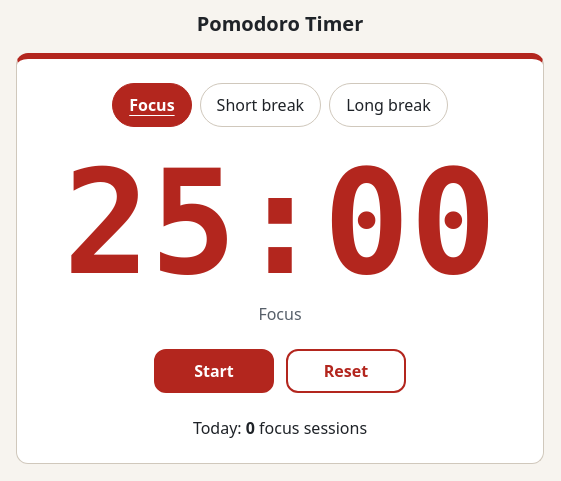
it: S2 Switch between Focus, Short break and Long break › the active mode button has aria-pressed=true and the others false
Click the button "Long break". click: (388, 105)
box: [329,83,448,127]
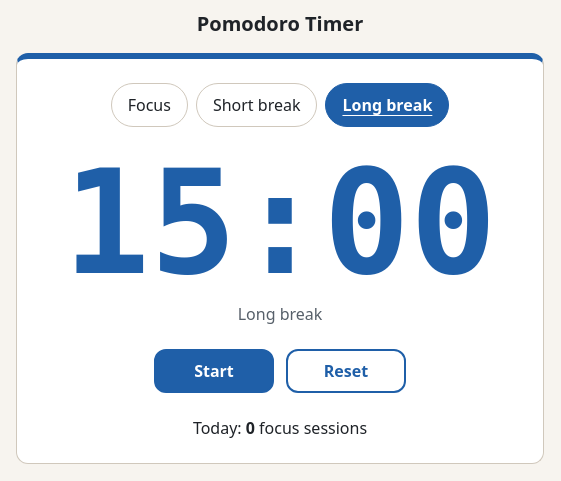
Check: the button "Long break" is pressed, box [326,83,449,127]
Check: the button "Focus" is not pressed, box [111,83,188,127]
